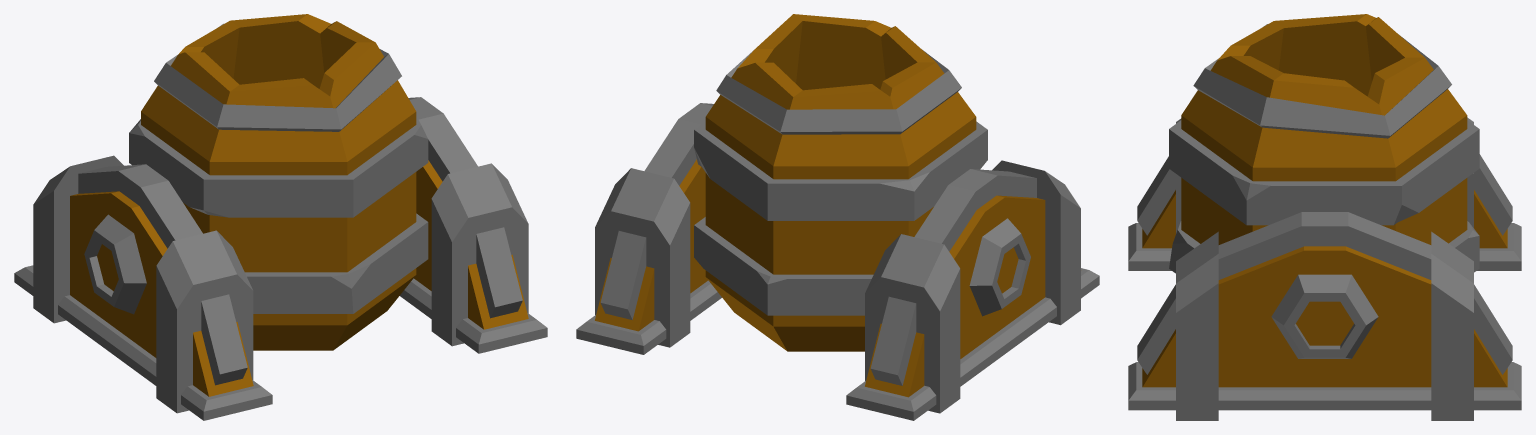
File: mortar.fbx
The picture shows the model from 3 angles, left to right: view 1: azimuth 30°, elevation 25°; view 2: azimuth 150°, elevation 25°; view 3: azimuth 270°, elevation 25°; orthographic projection. The views are drawn at different scales.
Parts seen in each view (by area): view 1: mortar_canon, mortar_pillar; view 2: mortar_canon, mortar_pillar; view 3: mortar_pillar, mortar_canon.
Boxes of the visible parts, left/top/right/bottom form: mortar_canon: left=129, top=14, right=428, bottom=350; mortar_pillar: left=14, top=97, right=547, bottom=420; mortar_canon: left=694, top=14, right=987, bottom=351; mortar_pillar: left=576, top=103, right=1099, bottom=420; mortar_pillar: left=1128, top=117, right=1521, bottom=420; mortar_canon: left=1169, top=14, right=1479, bottom=273.
Size of the model in its own units: 375 by 280 by 348.
